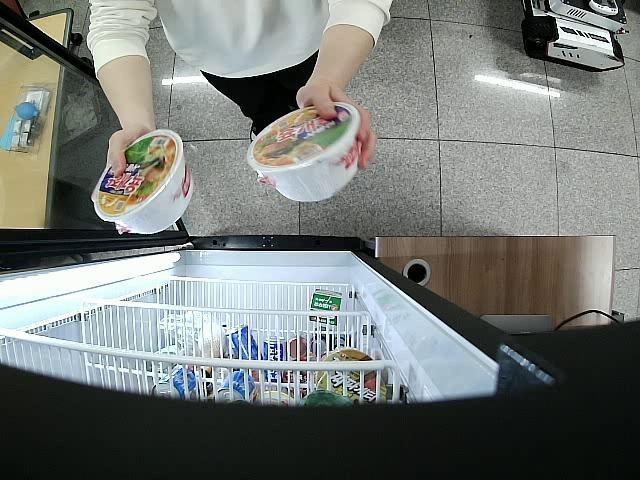09_yukGaeJang: (246, 103, 362, 202), (92, 129, 195, 234)
